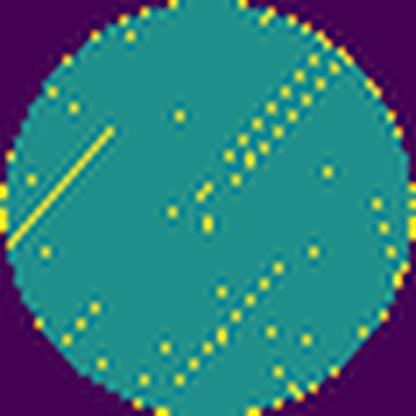Scratch: (216, 47, 346, 194), (173, 256, 294, 384), (10, 121, 123, 246)
